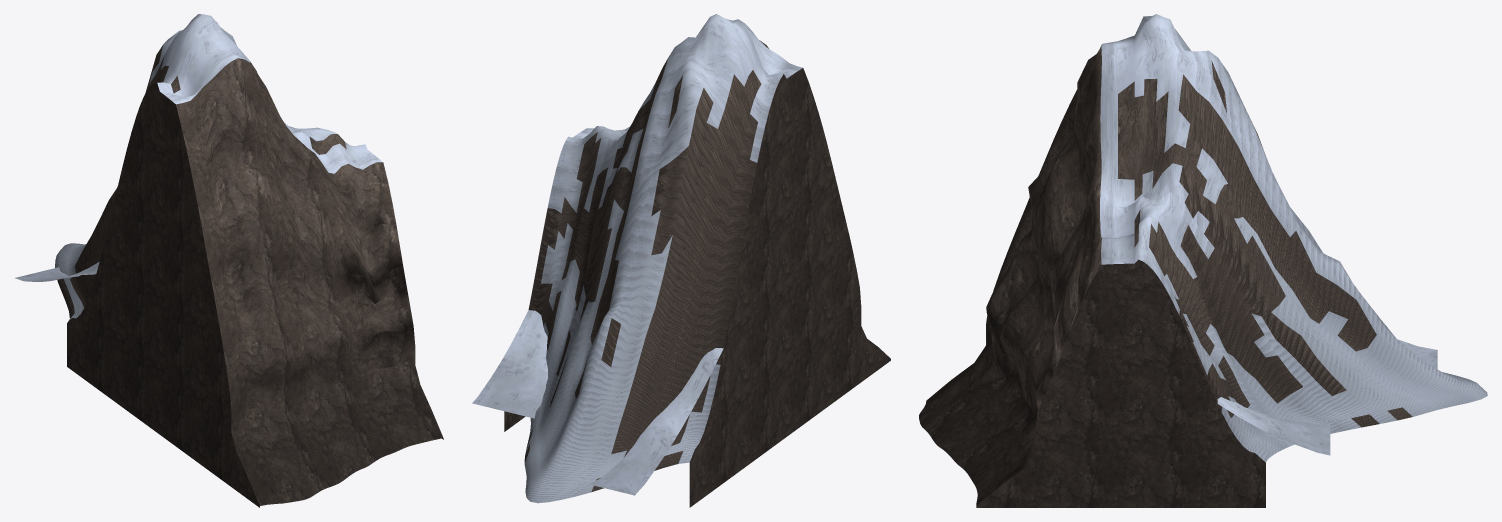
The model's file is seacliff_step_h8h5_v5_winter.glb.
The picture shows the model from 3 angles, left to right: view 1: azimuth 30°, elevation 25°; view 2: azimuth 150°, elevation 25°; view 3: azimuth 270°, elevation 25°; orthographic projection. The views are drawn at different scales.
Visible parts, largest first — view 1: seacliff_step_h8h5; view 2: seacliff_step_h8h5; view 3: seacliff_step_h8h5.
Boxes of the visible parts, left/top/right/bottom form: seacliff_step_h8h5: left=15, top=14, right=443, bottom=507; seacliff_step_h8h5: left=472, top=14, right=890, bottom=507; seacliff_step_h8h5: left=919, top=14, right=1487, bottom=507.
Bounding box in the file's own units: 6 × 11.02 × 13.67.
Materials: 2 (2 with a texture image).
